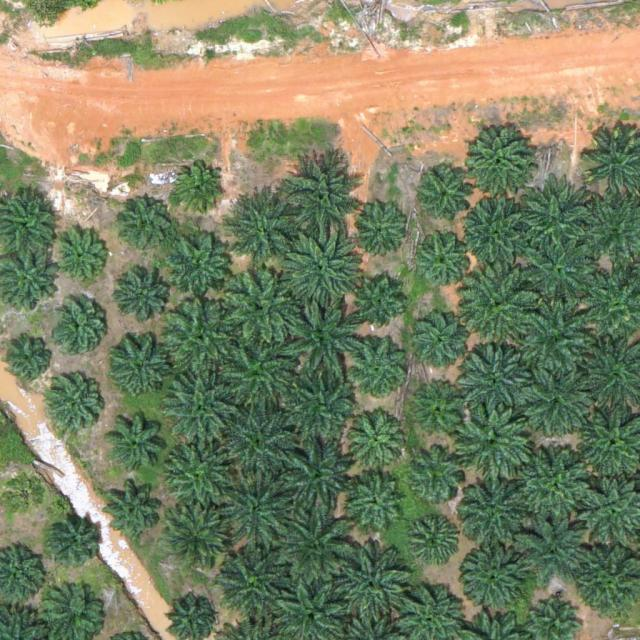Dead: (2, 471, 49, 519)
Healthy: (518, 512, 596, 591), (515, 447, 593, 526), (519, 301, 597, 380), (523, 234, 601, 313), (519, 184, 597, 263), (459, 196, 537, 275), (458, 339, 536, 418), (456, 405, 534, 484), (339, 545, 417, 624), (277, 436, 355, 515), (285, 154, 363, 233), (282, 230, 360, 309), (283, 300, 361, 379), (285, 372, 363, 451), (228, 189, 306, 268), (225, 267, 303, 346), (221, 332, 299, 411), (221, 402, 299, 481), (219, 470, 297, 549), (164, 298, 242, 377), (518, 366, 596, 444), (466, 266, 544, 344), (278, 507, 356, 585), (457, 482, 528, 553), (462, 125, 532, 196), (460, 547, 531, 617), (215, 546, 285, 617), (162, 500, 232, 571), (165, 370, 235, 441), (165, 434, 235, 504), (349, 197, 412, 260), (104, 477, 167, 540), (348, 341, 410, 404), (345, 409, 407, 472), (343, 472, 405, 535), (170, 234, 232, 297), (108, 335, 170, 398), (105, 410, 167, 473), (408, 446, 463, 501), (415, 309, 470, 364), (419, 233, 474, 288), (418, 171, 473, 226), (352, 278, 407, 333), (121, 198, 176, 253), (117, 272, 172, 327), (54, 232, 109, 287), (53, 303, 108, 358), (48, 379, 103, 434), (47, 511, 101, 567), (410, 511, 464, 566), (415, 383, 469, 438), (171, 162, 225, 217)
Small: (2, 332, 57, 387)
